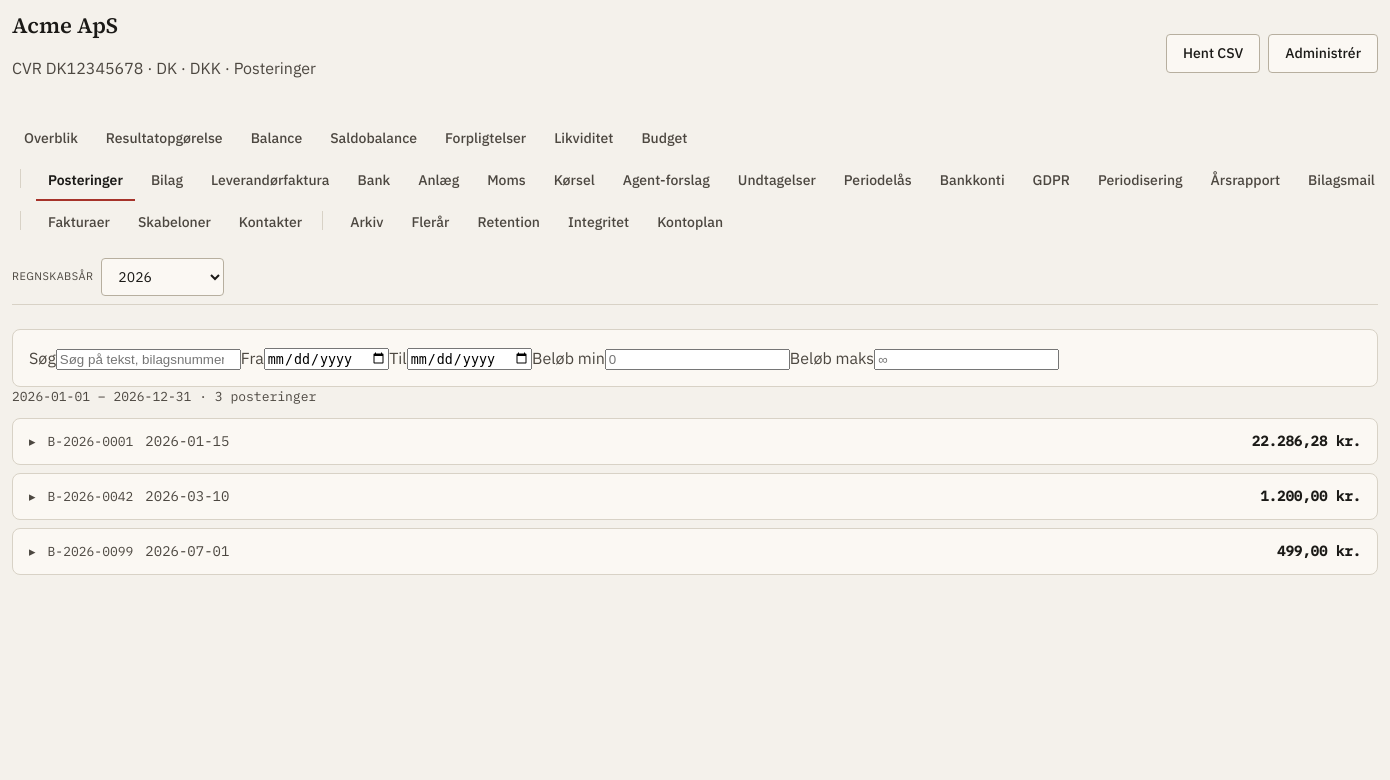
Test: JournalView — #396 filter-bar › tomt resultat vises pænt
Type "intet-der-matcher-noget" into the search field labelled "Søg" at {"x": 148, "y": 359}, box [56,348,241,370]
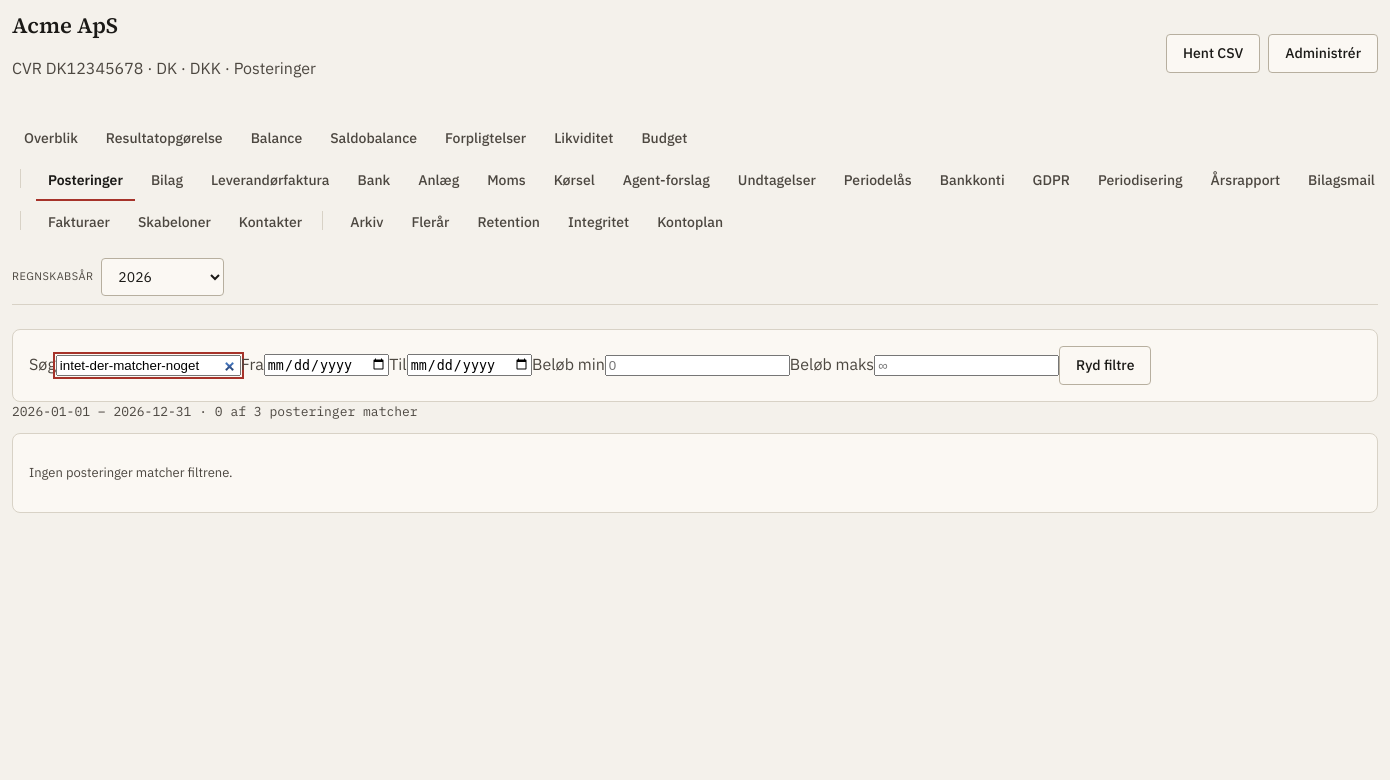
Expected: the text "Salg af ydelse" is not shown
Expected: the text "Ingen posteringer matcher filtrene." is shown, [29,464,233,481]
